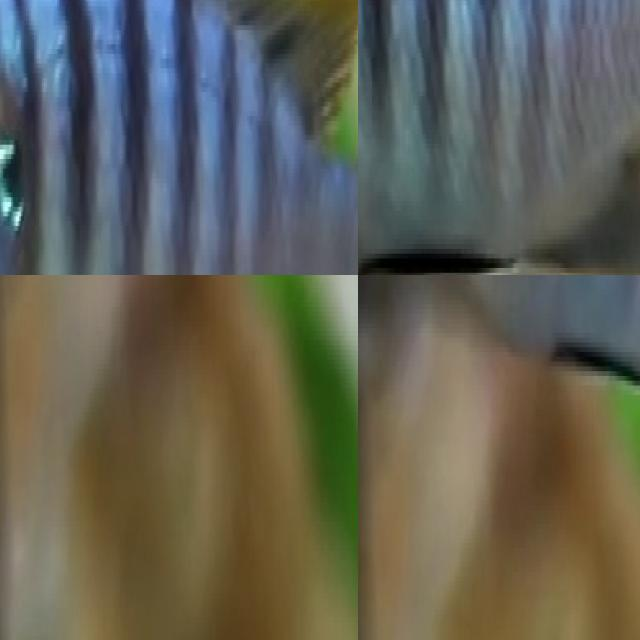fish: (0, 0, 358, 275), (358, 0, 640, 275)
